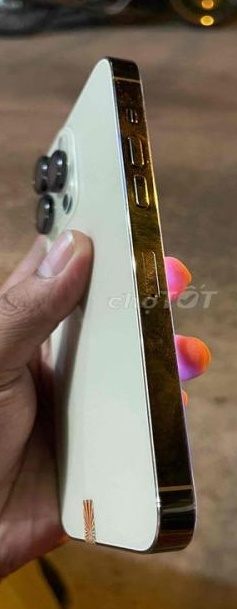scratch: (124, 246, 181, 351), (121, 187, 182, 220), (114, 69, 150, 117)
